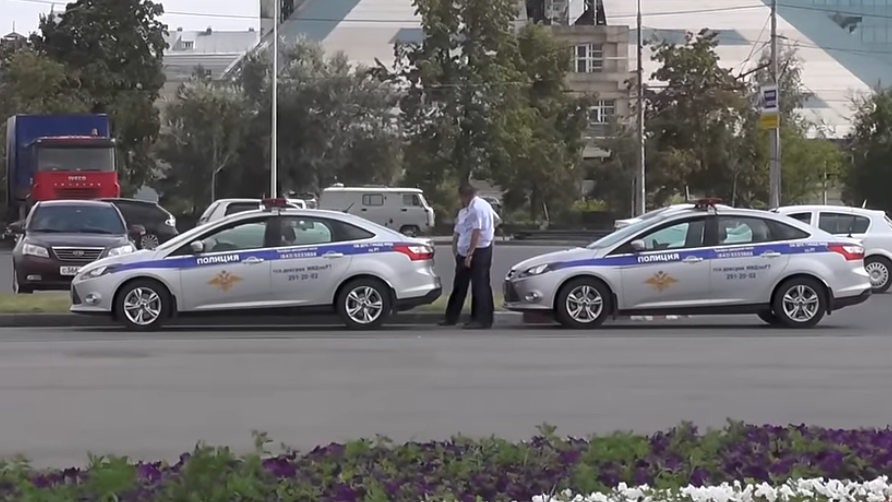non emergency car: (3, 111, 118, 201), (782, 191, 890, 286), (11, 203, 129, 288), (320, 185, 430, 234), (116, 198, 180, 249)
police car: (499, 194, 871, 326), (69, 197, 439, 324)
